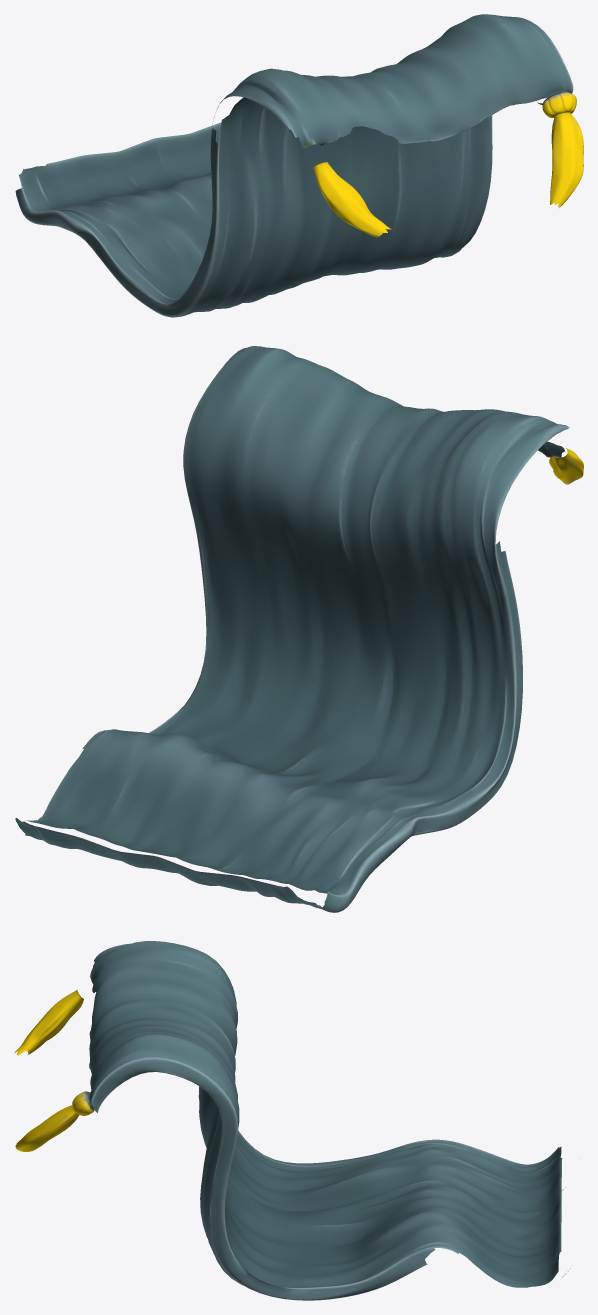
Rendered from MZ4250 - Rug of Smothering.glb.
The picture shows the model from 3 angles, top to bottom: view 1: azimuth 30°, elevation 25°; view 2: azimuth 150°, elevation 25°; view 3: azimuth 270°, elevation 25°; orthographic projection. The views are drawn at different scales.
Visible parts, largest first — view 1: Cube.002; view 2: Cube.002; view 3: Cube.002.
Part boxes in pixels (x1,y1,x2,y2): Cube.002: (15, 14, 583, 317); Cube.002: (15, 346, 583, 912); Cube.002: (14, 941, 570, 1300).
Bounding box in the file's own units: 0.8346 × 0.72 × 1.4.
1 material, 1 textured.
